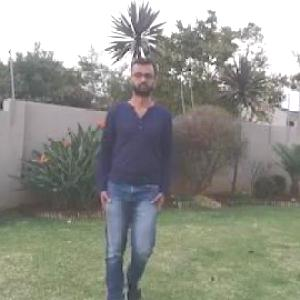follow: (100, 76, 163, 291)
